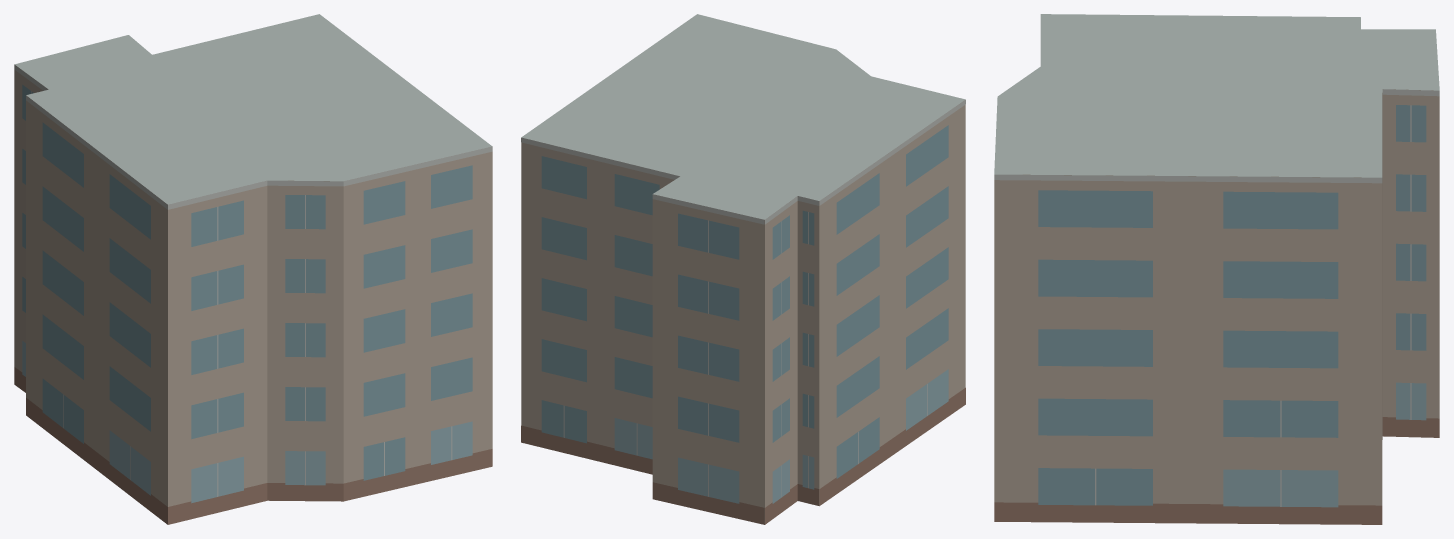
The model's file is survey-upis-32517677.glb.
3 views of the same model, side by side, from view 1: azimuth 30°, elevation 25°; view 2: azimuth 150°, elevation 25°; view 3: azimuth 270°, elevation 25° (orthographic). The views are drawn at different scales.
Parts seen in each view (by area): view 1: survey-upis-32517677.tmp; view 2: survey-upis-32517677.tmp; view 3: survey-upis-32517677.tmp.
Part boxes in pixels (x1,y1,x2,y2): survey-upis-32517677.tmp: (14, 14, 492, 524); survey-upis-32517677.tmp: (521, 14, 965, 524); survey-upis-32517677.tmp: (994, 14, 1439, 524).
Bounding box in the file's own units: 15.27 × 15.1 × 17.57.
